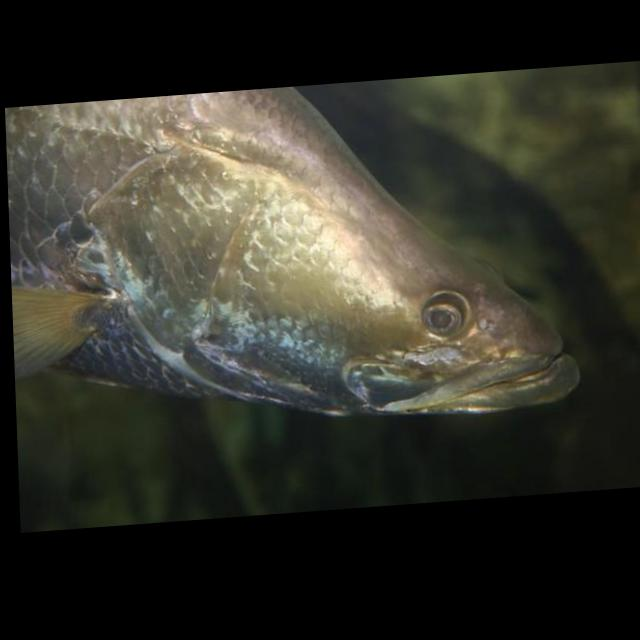Seabass: (4, 65, 586, 449)
